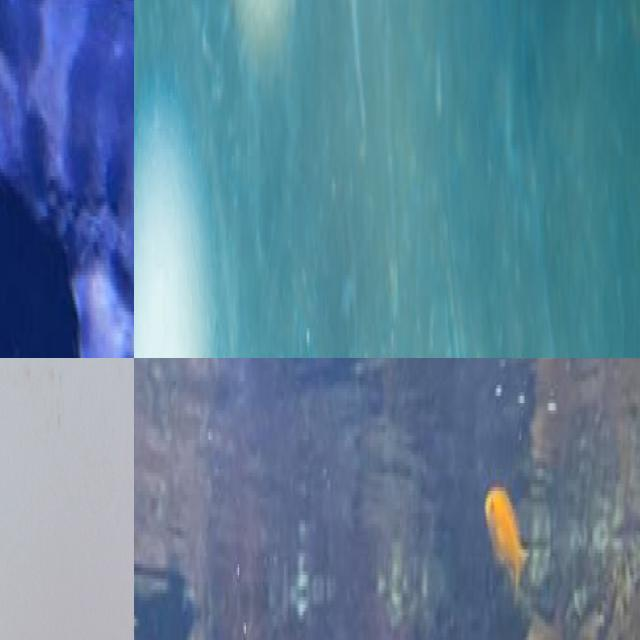fish: (134, 0, 304, 358), (0, 0, 134, 358)
